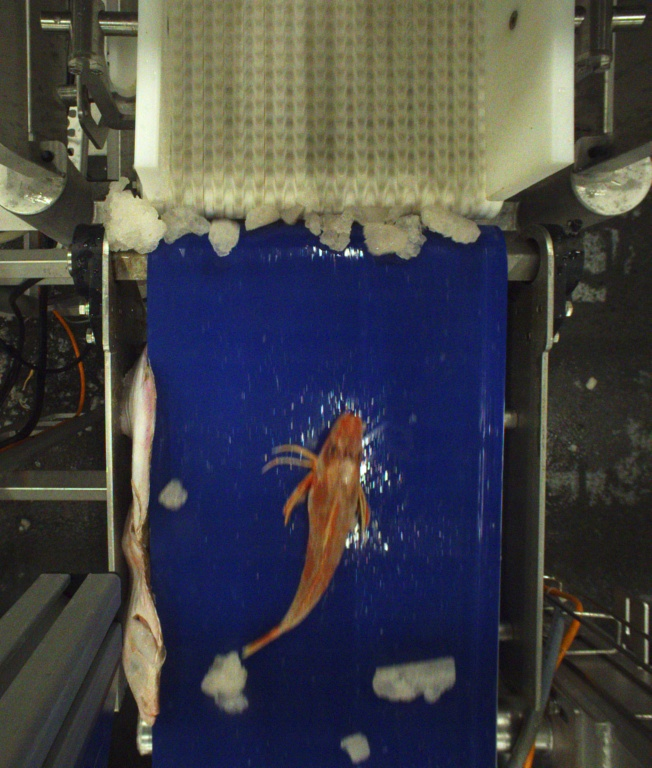GUU: (237, 409, 369, 659)
